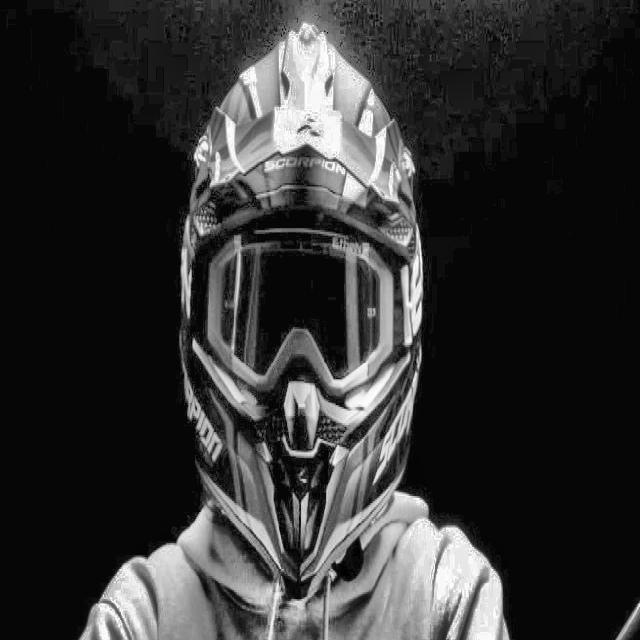Helmet: (179, 13, 431, 621)
